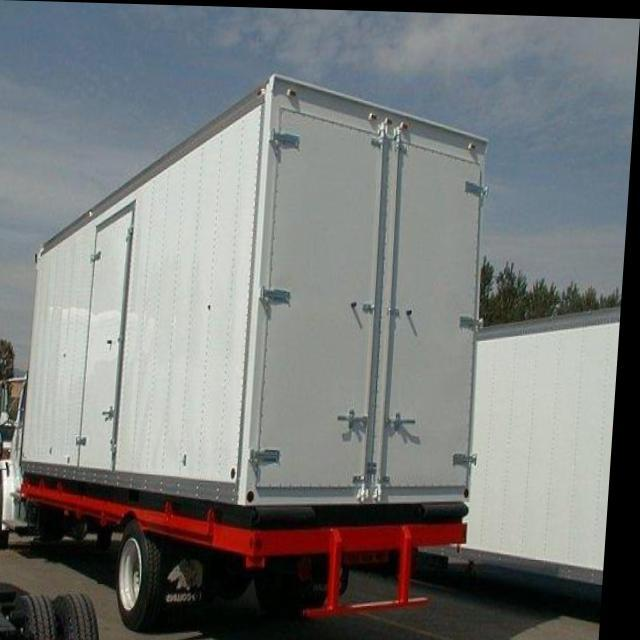covered: (11, 56, 512, 626)
